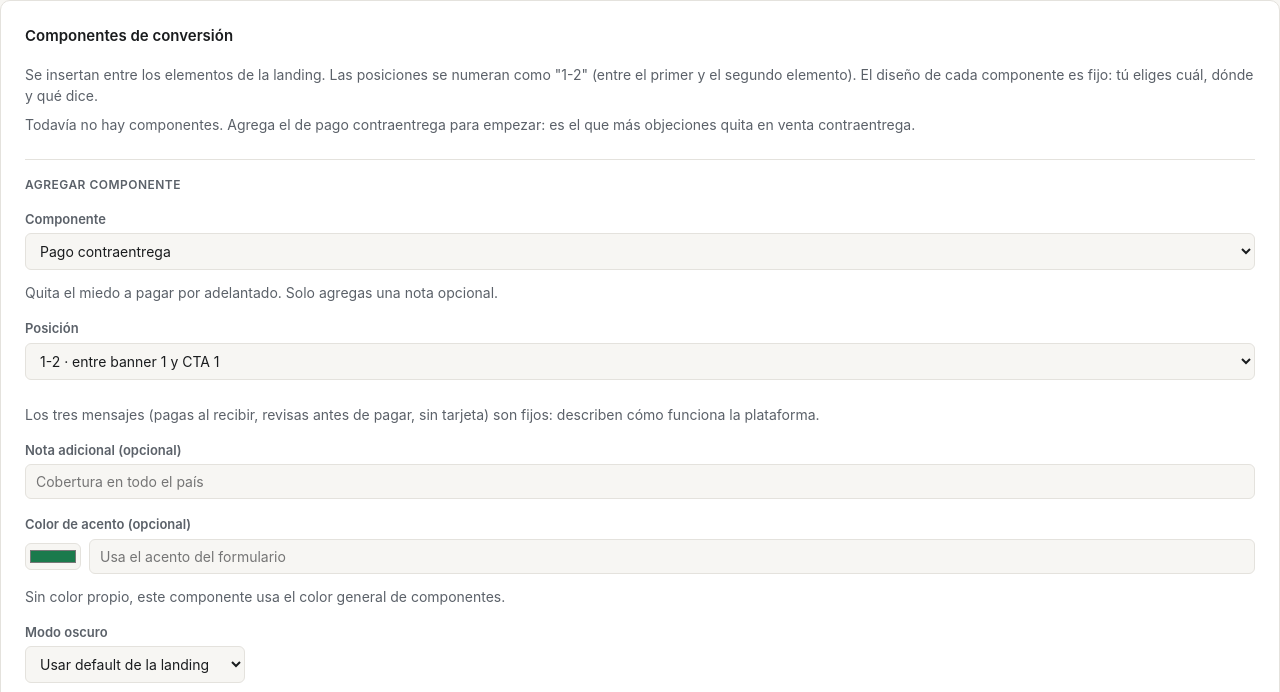
Scenario: LandingBlocksPanel › places a component in the chosen slot
This screenshot has width=1280, height=692.
Step 1. Select "1-2 · entre banner 1 y CTA 1" in the dropdown labelled "Posición" → (640,361), box [25, 342, 1255, 380]
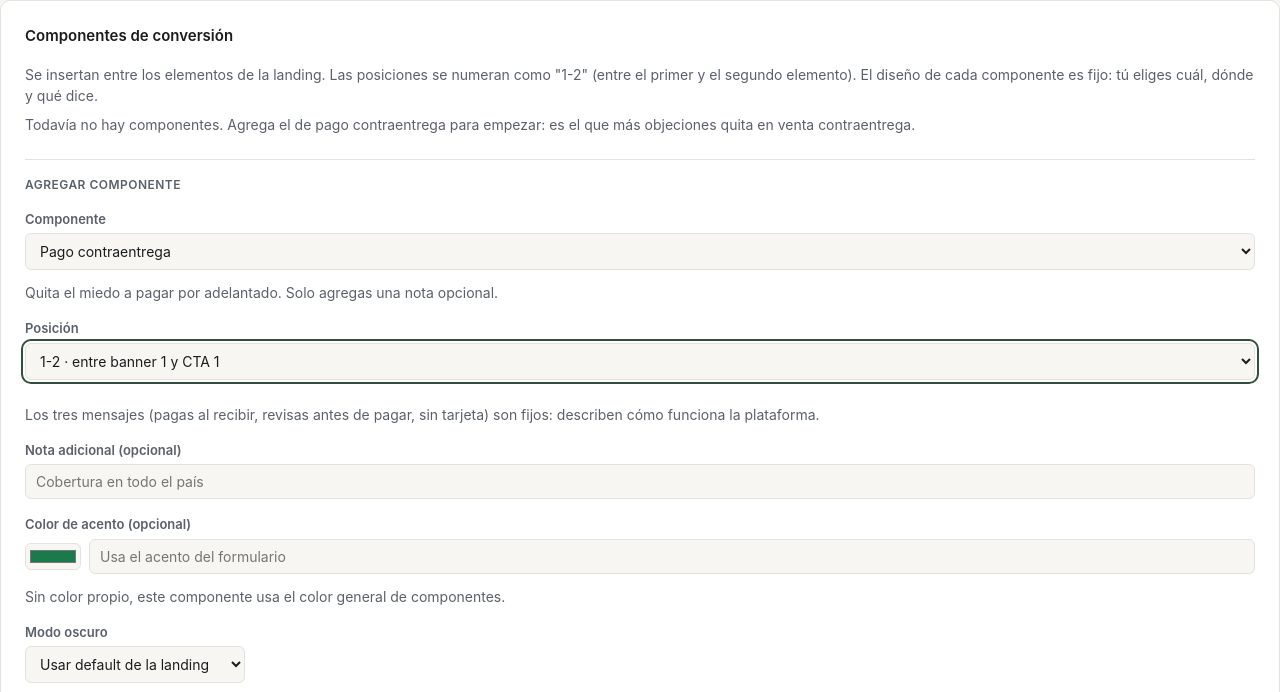
Step 2. Type "Cobertura nacional" into the field labelled "Nota adicional (opcional)" → (640,482), box [25, 464, 1255, 499]
(page scrolled)
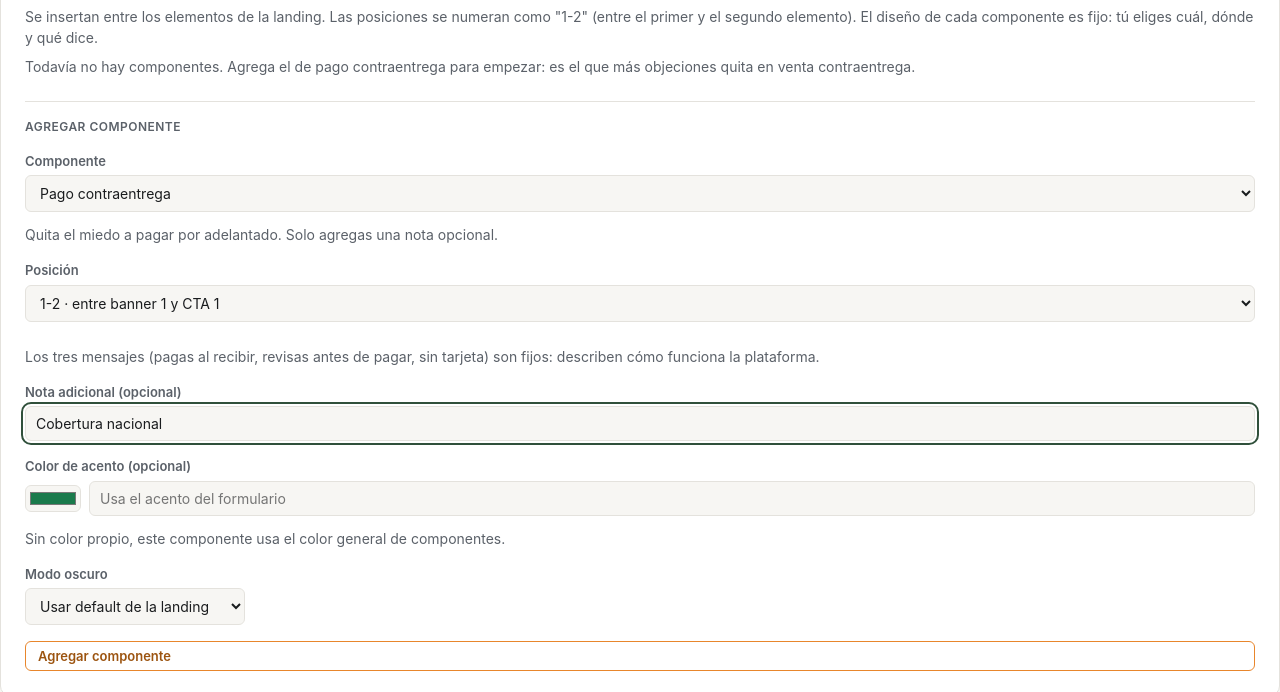
Step 3. Click the button "Agregar componente" → (104,656), box [25, 641, 1255, 671]
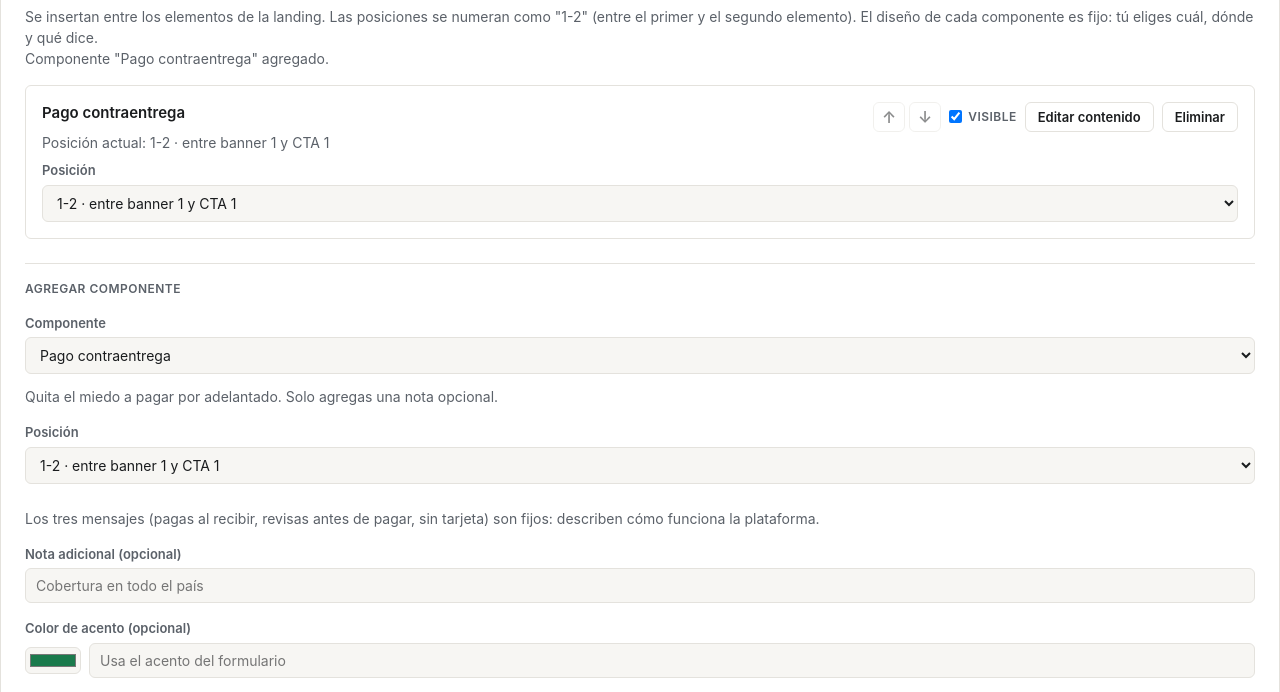
Check: the text "Pago contraentrega" is shown, box [42, 102, 185, 122]
Check: the text "Posición actual: 1-2 · entre banner 1 y CTA 1" is shown, box [42, 132, 330, 153]
